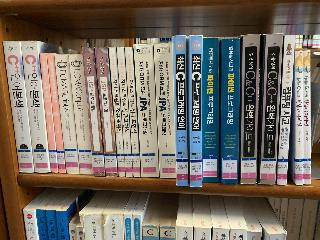book-spine: (3, 40, 34, 175), (256, 32, 283, 185), (21, 40, 50, 174), (133, 44, 159, 178), (238, 33, 261, 184), (54, 54, 80, 175), (69, 53, 94, 176), (154, 43, 176, 179), (220, 38, 240, 184), (95, 46, 117, 178), (276, 34, 295, 185), (83, 46, 105, 176), (202, 38, 219, 183), (39, 52, 58, 174), (47, 53, 65, 174), (189, 35, 203, 187), (125, 46, 141, 178), (174, 36, 188, 186), (117, 46, 133, 177), (109, 47, 125, 177), (295, 51, 303, 185), (303, 50, 311, 184)
